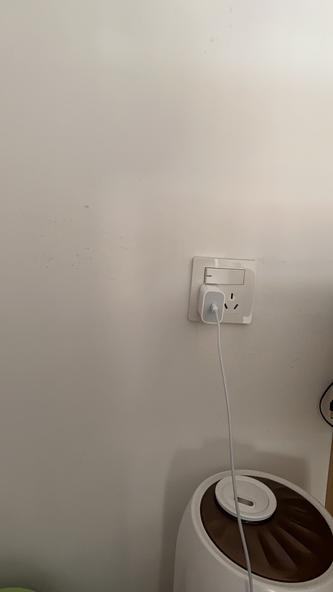switch: (202, 265, 250, 285)
